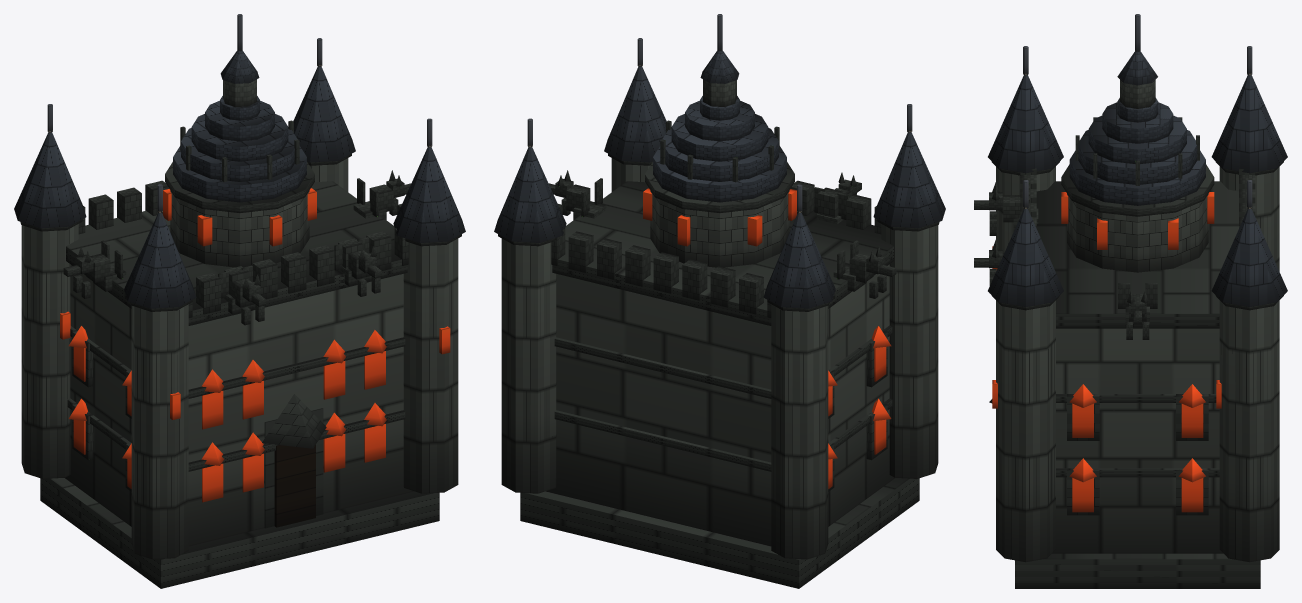
File: manor.obj
The picture shows the model from 3 angles, left to right: view 1: azimuth 30°, elevation 25°; view 2: azimuth 150°, elevation 25°; view 3: azimuth 270°, elevation 25°; orthographic projection.
Parts seen in each view (by area): view 1: manor; view 2: manor; view 3: manor.
Part boxes in pixels (left/top/right/bottom): manor: left=14, top=14, right=465, bottom=588; manor: left=494, top=14, right=945, bottom=588; manor: left=974, top=14, right=1287, bottom=588.
Size of the model in its own units: 3 by 4.08 by 2.3.
1 material, 1 textured.
